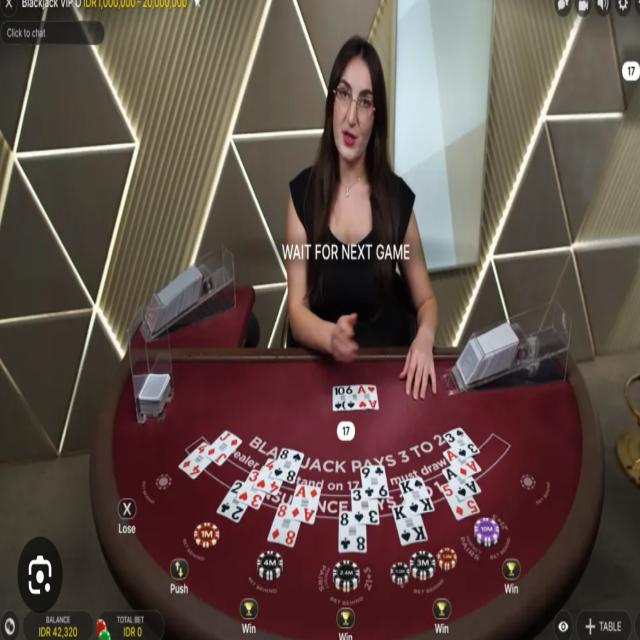Card-10: (332, 386, 346, 411)
Card-2: (216, 480, 248, 523)
Card-3: (442, 427, 480, 461), (237, 469, 265, 509), (351, 489, 378, 525)
Card-4: (178, 441, 212, 479), (254, 458, 282, 495)
Card-5: (440, 483, 479, 520)
Card-6: (346, 386, 358, 410)
Card-8: (266, 503, 301, 547), (272, 447, 304, 484), (338, 512, 366, 552)
Card-9: (361, 465, 389, 499)
Card-A: (288, 486, 321, 525), (442, 466, 481, 499), (443, 448, 481, 479), (357, 385, 378, 409)
Card-J: (204, 430, 242, 467)
Card-K: (392, 504, 427, 545), (399, 477, 434, 516)
